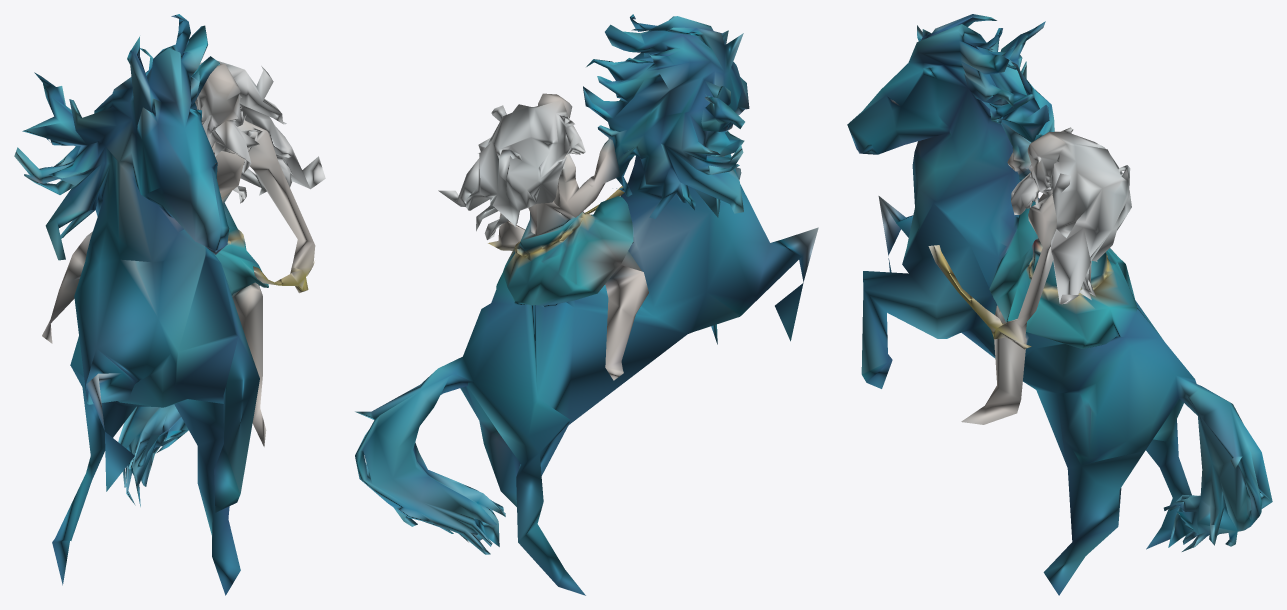
3 views of the same model, side by side, from view 1: azimuth 30°, elevation 25°; view 2: azimuth 150°, elevation 25°; view 3: azimuth 270°, elevation 25° (orthographic). The views are drawn at different scales.
Visible parts, largest first — view 1: Meshy_AI_Stormhoof_Rider_20261120_texture001; view 2: Meshy_AI_Stormhoof_Rider_20261120_texture001; view 3: Meshy_AI_Stormhoof_Rider_20261120_texture001.
Part boxes in pixels (bbox=[...]): Meshy_AI_Stormhoof_Rider_20261120_texture001: bbox=[14, 14, 325, 595]; Meshy_AI_Stormhoof_Rider_20261120_texture001: bbox=[355, 14, 818, 595]; Meshy_AI_Stormhoof_Rider_20261120_texture001: bbox=[847, 14, 1272, 595].
Size of the model in its own units: 0.0272 by 0.0469 by 0.0338.
